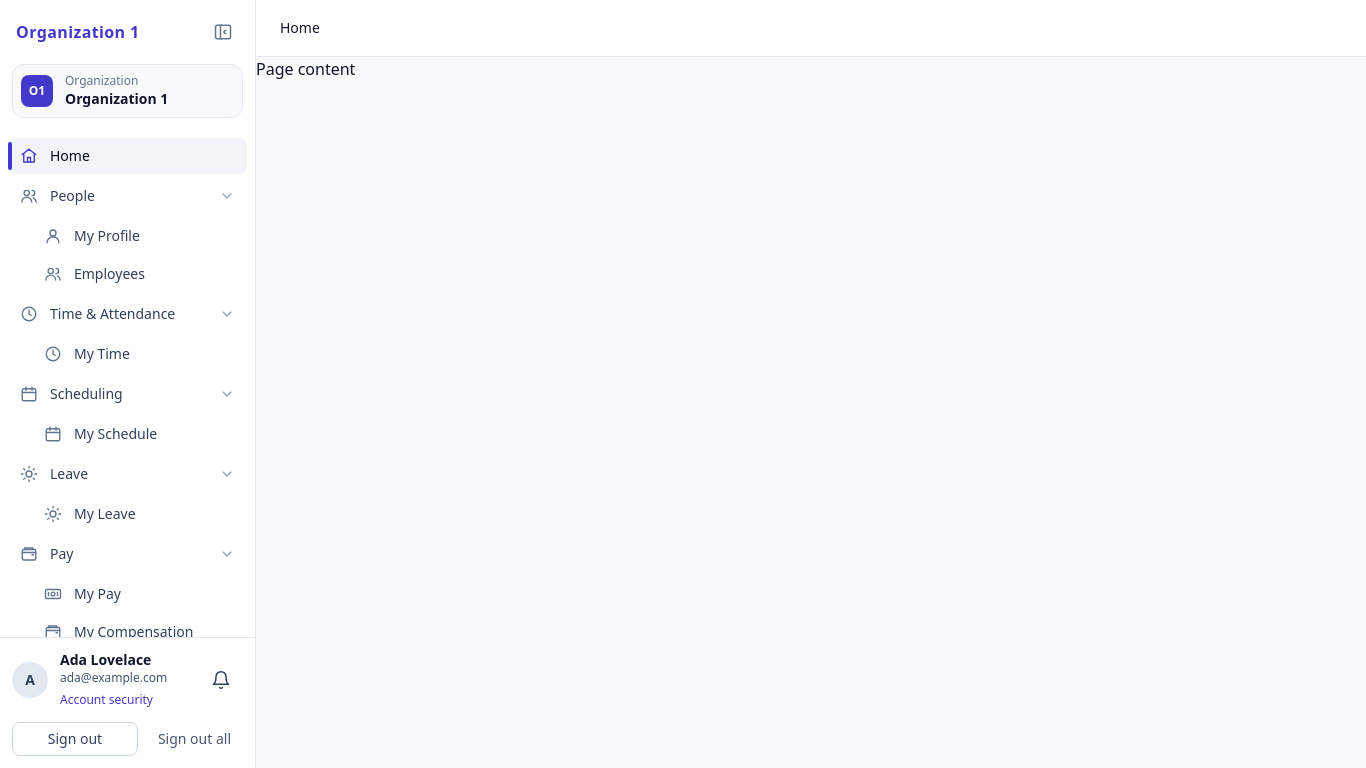
it: AppShell sidebar behaviour › collapses and expands groups, persisting the choice
Later steps or results of the test are not shown.
Expected: the link "Home" is shown, [8, 138, 247, 174]
Click the button "Pay" at point(128, 554), box [8, 536, 247, 572]
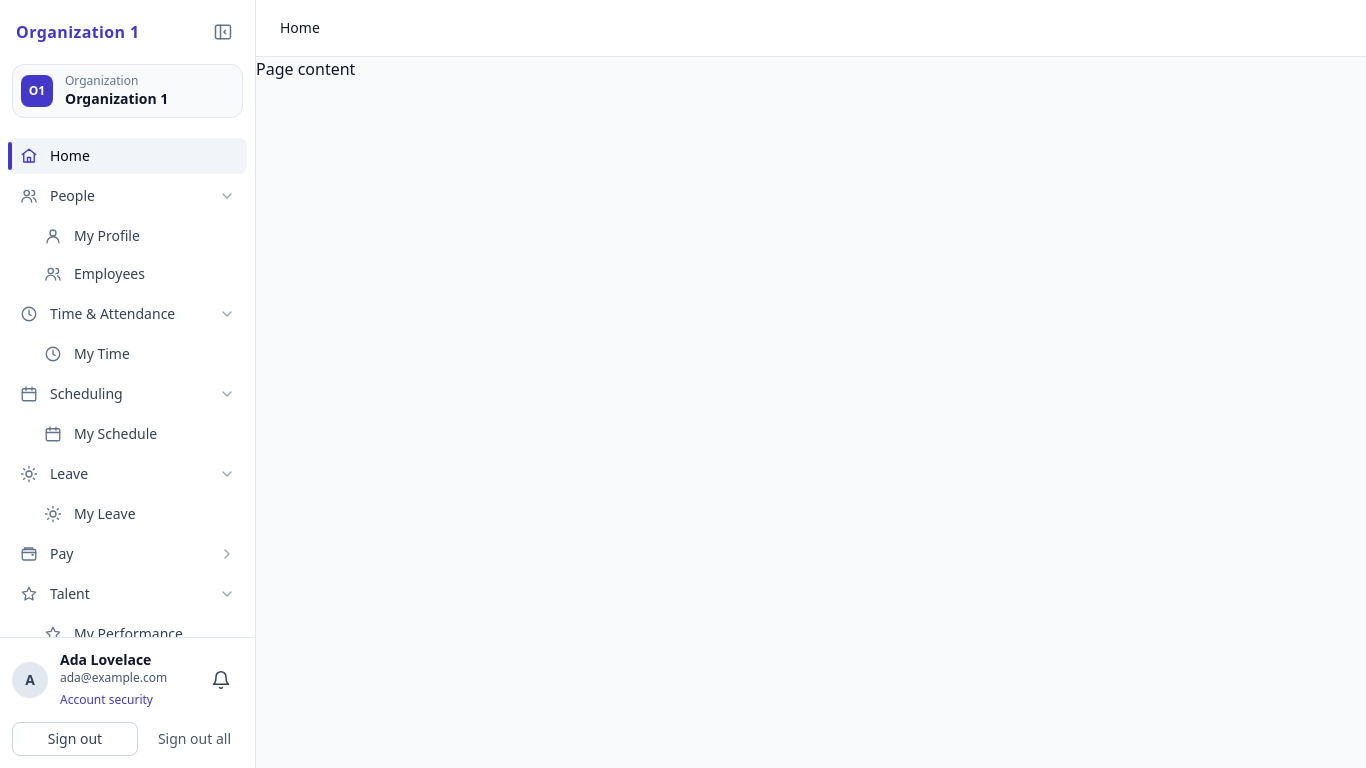
Expected: the link "Payroll" is not shown
Now the button "Pay" is collapsed, box [8, 536, 247, 572]
